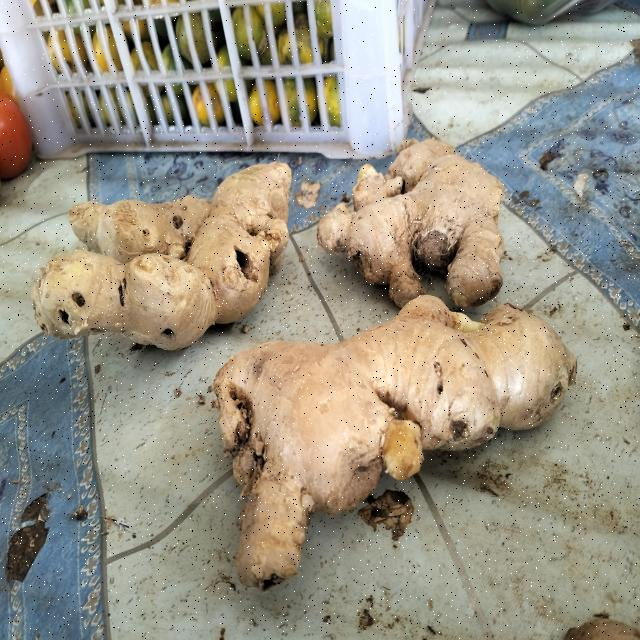ginger: (196, 284, 576, 610), (48, 134, 294, 350), (317, 128, 513, 306)
